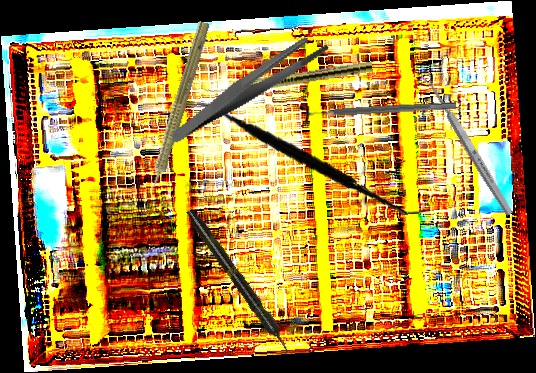Dressing Forceps: (154, 31, 343, 144)
Fixation Ring: (299, 93, 457, 129)
Handpiece: (183, 206, 294, 356), (138, 18, 214, 202), (200, 58, 374, 100)
Spatula Surgical: (185, 82, 431, 233)
Surgical Spoon: (420, 69, 515, 218)
